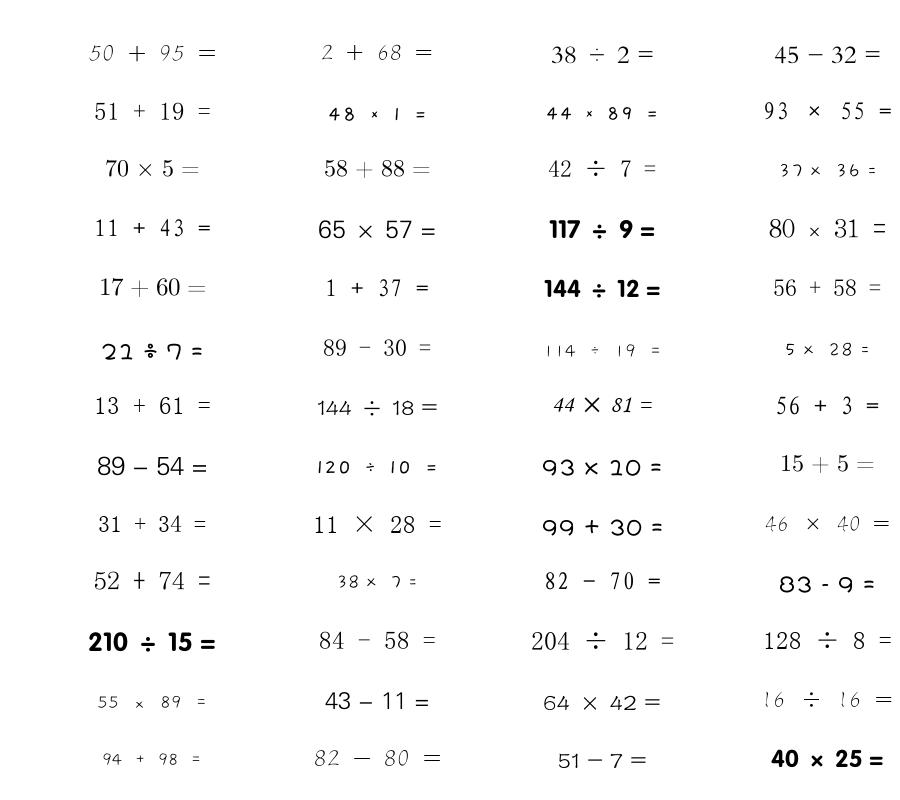MQ: (531, 631, 674, 650), (88, 632, 216, 652), (769, 218, 886, 238), (763, 102, 892, 120), (763, 631, 892, 649), (761, 691, 893, 708), (318, 220, 436, 239), (94, 571, 211, 590), (97, 456, 208, 476), (544, 279, 660, 298), (313, 516, 442, 533), (89, 45, 216, 62), (99, 278, 206, 298), (771, 749, 883, 768), (549, 219, 655, 239), (94, 102, 211, 120), (94, 219, 211, 237), (544, 572, 661, 590), (319, 631, 436, 649), (542, 519, 663, 536), (542, 459, 662, 476), (324, 159, 431, 178), (314, 750, 441, 766), (765, 516, 890, 532), (94, 397, 211, 414), (775, 396, 879, 415), (317, 400, 438, 416), (774, 46, 881, 64), (325, 692, 430, 710), (543, 695, 661, 711), (325, 279, 429, 297), (551, 46, 654, 64), (548, 160, 656, 177), (773, 279, 881, 296), (323, 339, 431, 356), (98, 515, 206, 532), (780, 454, 875, 473), (321, 44, 433, 60), (101, 343, 203, 360), (105, 159, 200, 177), (543, 344, 662, 358), (779, 576, 875, 593), (552, 397, 652, 413), (316, 461, 438, 474), (97, 695, 208, 709), (778, 163, 877, 178), (545, 107, 659, 120), (327, 107, 427, 121), (558, 753, 647, 768), (102, 753, 202, 766), (784, 342, 870, 357), (336, 575, 418, 589)
